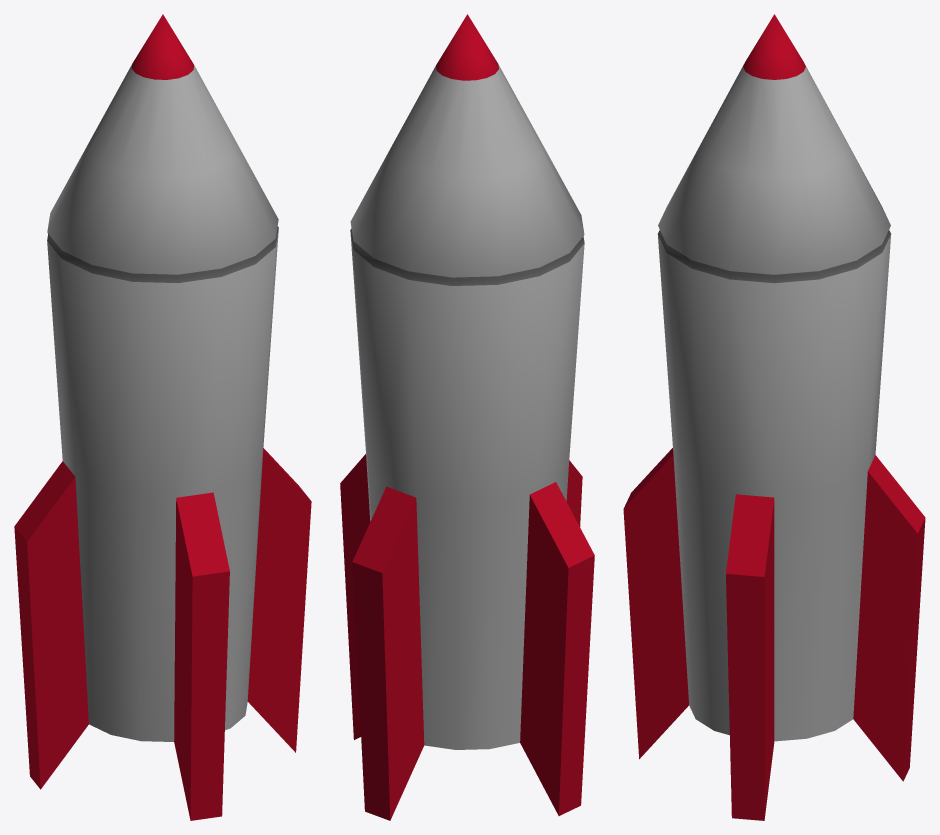
File: Misil Modelado Con Textura.fbx
3 renders of one model, left to right at view 1: azimuth 30°, elevation 25°; view 2: azimuth 150°, elevation 25°; view 3: azimuth 270°, elevation 25°, orthographic.
Parts seen in each view (by area): view 1: NGon001; view 2: NGon001; view 3: NGon001.
Part boxes in pixels (<box>): NGon001: <box>14,14,311,820</box>; NGon001: <box>340,14,594,820</box>; NGon001: <box>623,14,925,820</box>.
Size of the model in its own units: 9.83 by 26.93 by 9.83.
Materials: 1 (1 with a texture image).
